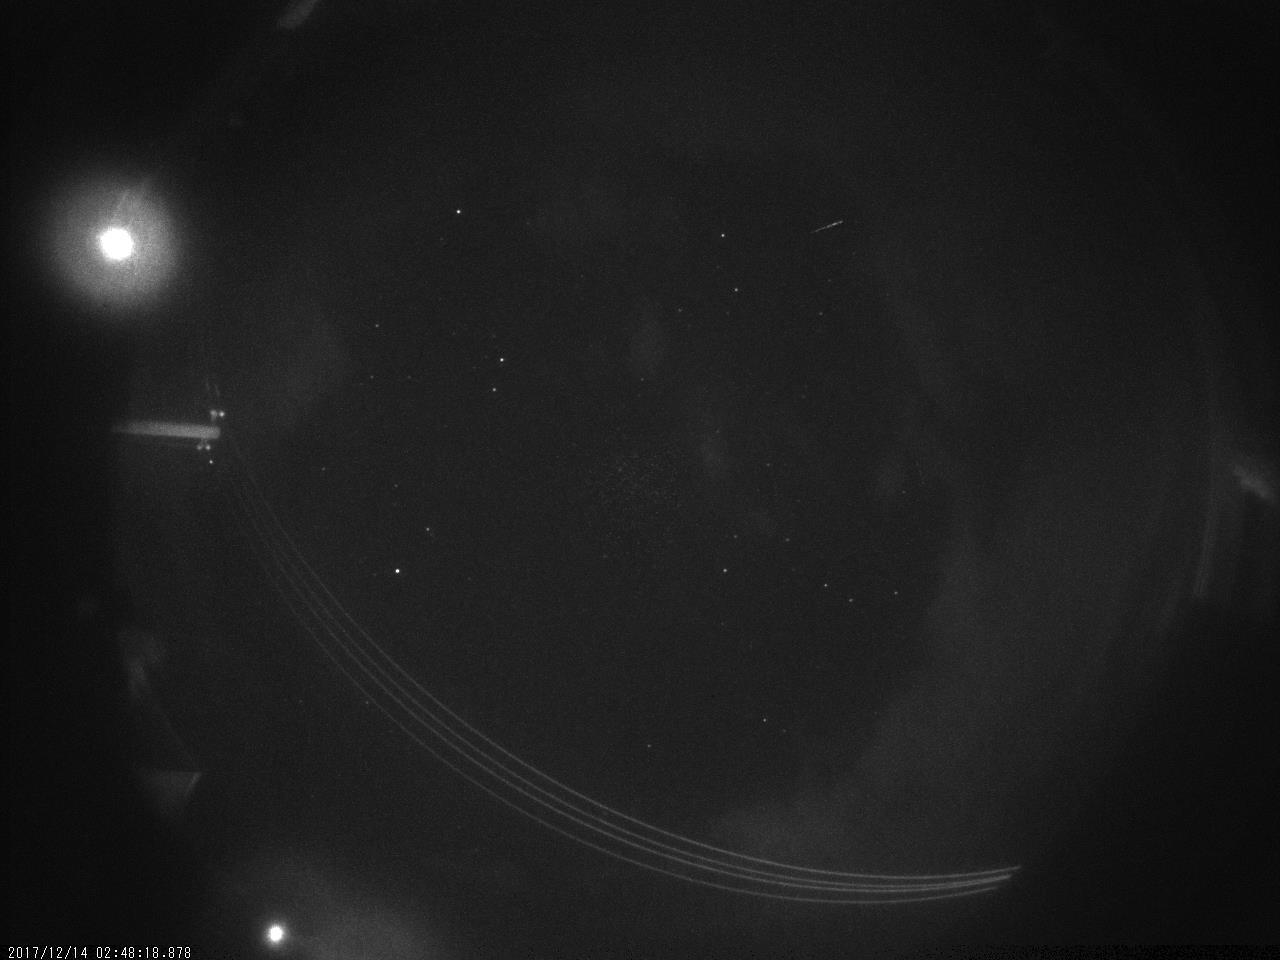Meteor: (806, 215, 847, 238)
